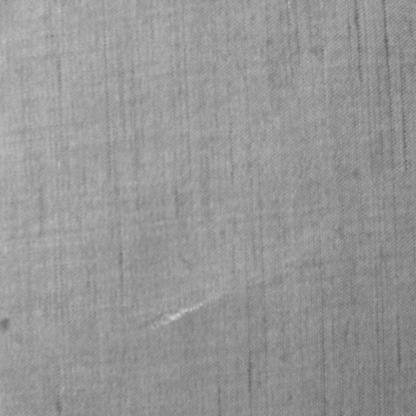thread error: (131, 254, 314, 339)
